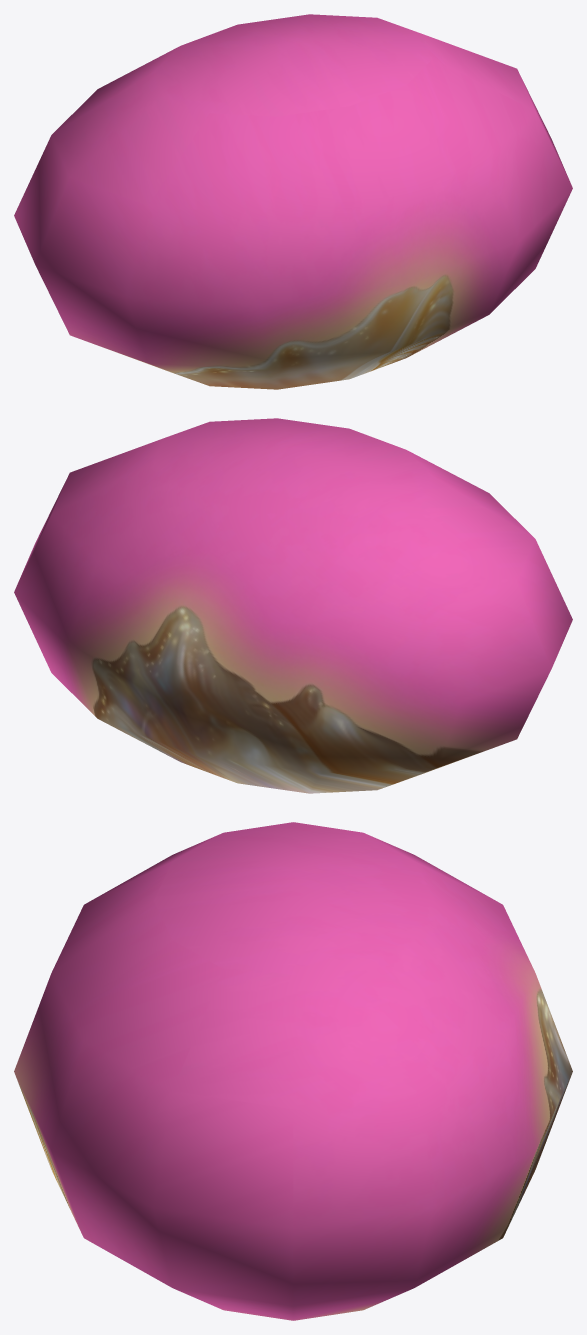
File: clue_shell.glb
The picture shows the model from 3 angles, top to bottom: view 1: azimuth 30°, elevation 25°; view 2: azimuth 150°, elevation 25°; view 3: azimuth 270°, elevation 25°; orthographic projection. The views are drawn at different scales.
Visible parts, largest first — view 1: clue_shell_body; view 2: clue_shell_body; view 3: clue_shell_body.
Boxes of the visible parts, x1,y1,x2,y2 form: clue_shell_body: (14,14,572,389); clue_shell_body: (14,418,572,793); clue_shell_body: (14,822,572,1320).
Size of the model in its own units: 1.54 by 0.9 by 1.16.
Materials: 1 (1 with a texture image).
